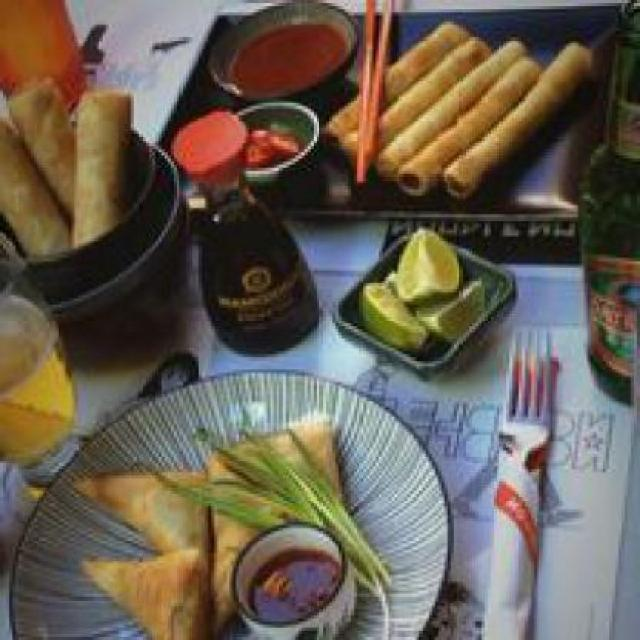samosa: (68, 410, 361, 638)
spring rolls: (320, 15, 603, 202), (3, 68, 143, 254)
